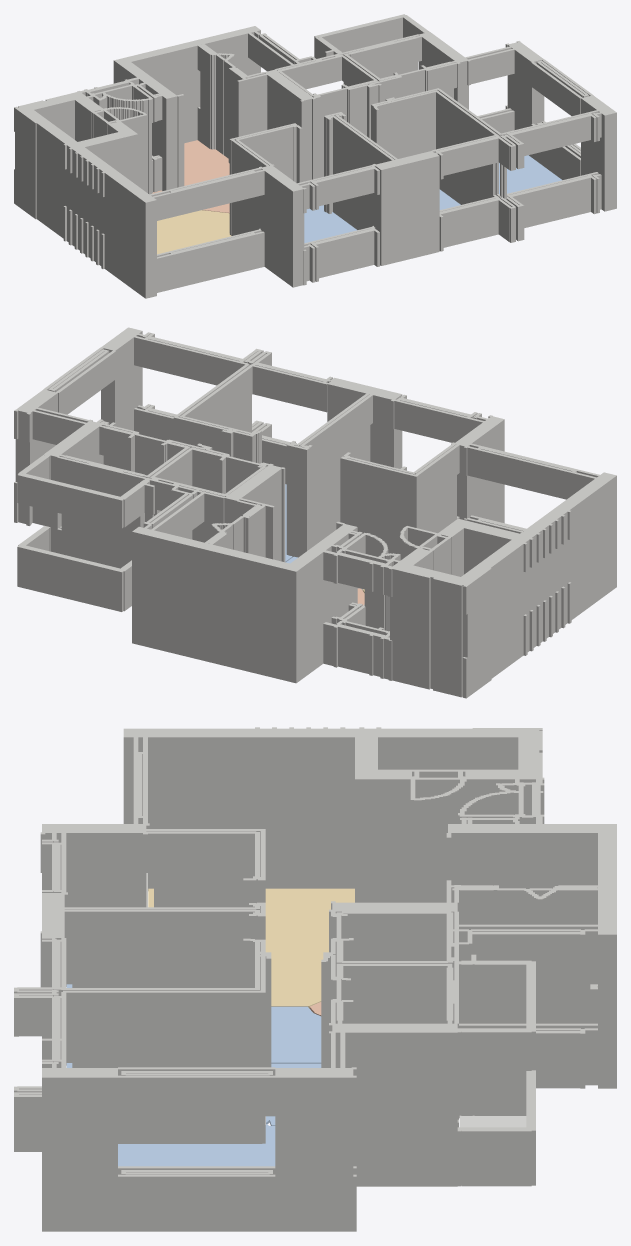
3 renders of one model, top to bottom at view 1: azimuth 30°, elevation 25°; view 2: azimuth 150°, elevation 25°; view 3: azimuth 270°, elevation 25°, orthographic. The views are drawn at different scales.
Visible parts, largest first — view 1: walls, room:living:6, room:kitchen:0, room:bedroom:7, room:bedroom:8; view 2: walls; view 3: walls, room:living:6, room:bedroom:8, room:bedroom:7, room:ledge:2.
Part boxes in pixels (left/top/right/bottom): walls: left=14, top=14, right=616, bottom=298; room:living:6: left=157, top=210, right=231, bottom=254; room:kitchen:0: left=152, top=140, right=229, bottom=213; room:bedroom:7: left=304, top=205, right=357, bottom=242; room:bedroom:8: left=499, top=155, right=562, bottom=193; walls: left=14, top=327, right=616, bottom=698; walls: left=14, top=727, right=616, bottom=1231; room:living:6: left=148, top=888, right=354, bottom=1008; room:bedroom:8: left=118, top=1124, right=275, bottom=1166; room:bedroom:7: left=66, top=984, right=321, bottom=1063; room:ledge:2: left=459, top=1115, right=526, bottom=1127.
Bounding box in the file's own units: 13.67 × 2.8 × 9.94.
